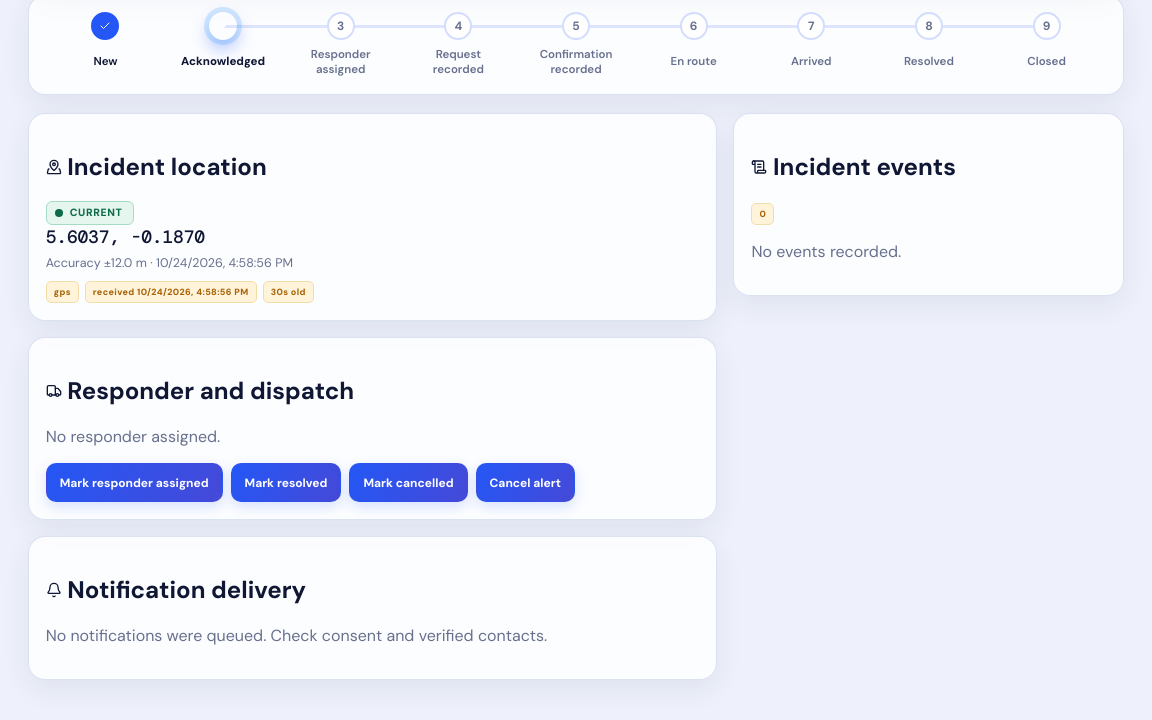
Test case: IncidentDetailPage workflows › shows cancel option after an incident is acknowledged
(page scrolled)
Step 1. Click the button "Cancel alert" → (525, 483), box [476,463,575,502]
(page scrolled)
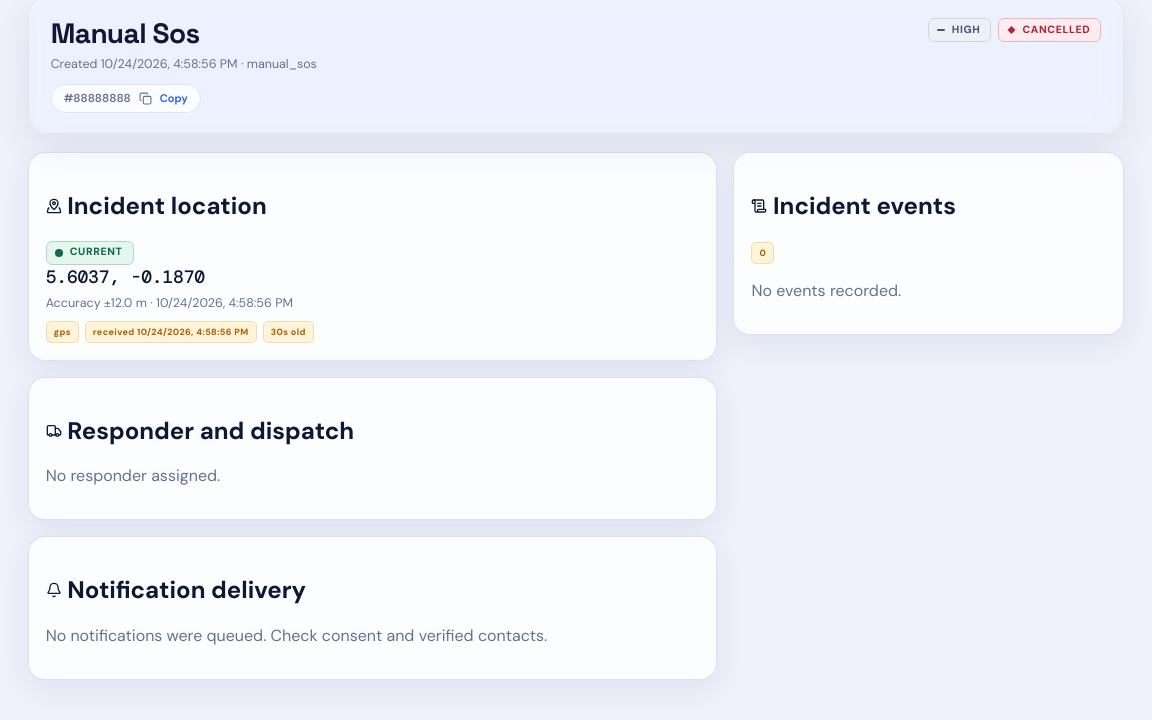
Expected: the text "Cancelled" is shown, [998,18,1101,42]
